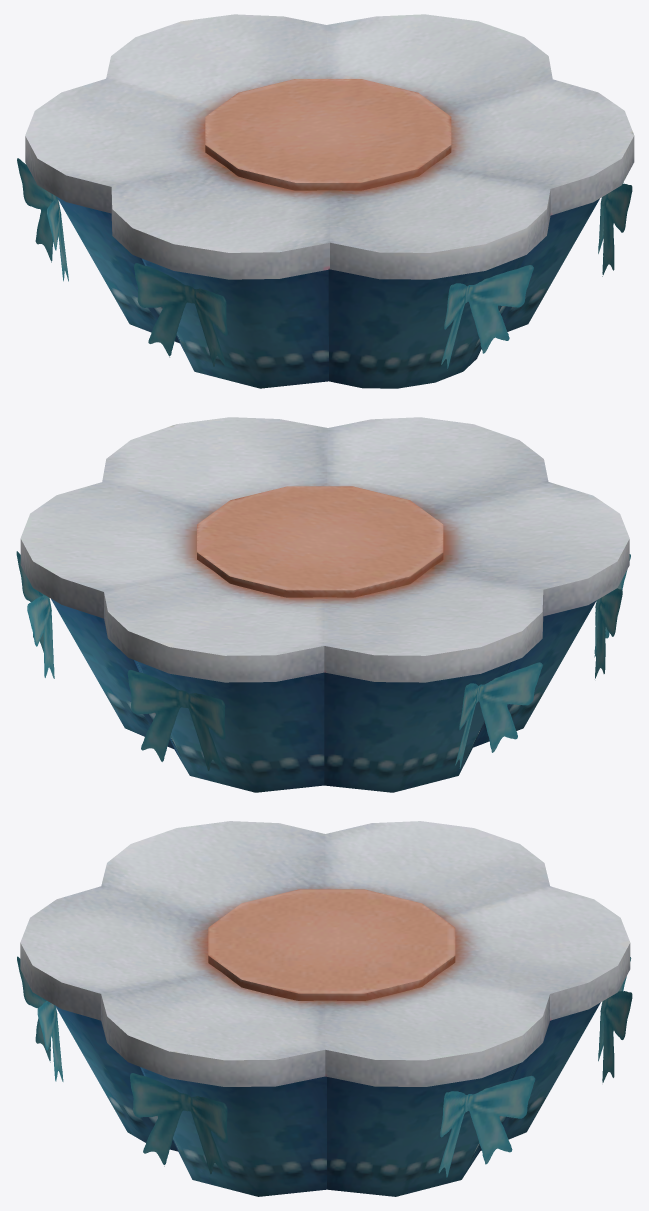
Rendered from furni_0200015_03.FBX.
3 renders of one model, top to bottom at view 1: azimuth 30°, elevation 25°; view 2: azimuth 150°, elevation 25°; view 3: azimuth 270°, elevation 25°, orthographic.
Visible parts, largest first — view 1: furni_0200015_03; view 2: furni_0200015_03; view 3: furni_0200015_03.
Boxes of the visible parts, box(x1,y1,x2,y2) form: furni_0200015_03: box(17, 14, 634, 388); furni_0200015_03: box(16, 417, 630, 792); furni_0200015_03: box(17, 821, 632, 1196).
Bounding box in the file's own units: 153 × 50.01 × 161.
